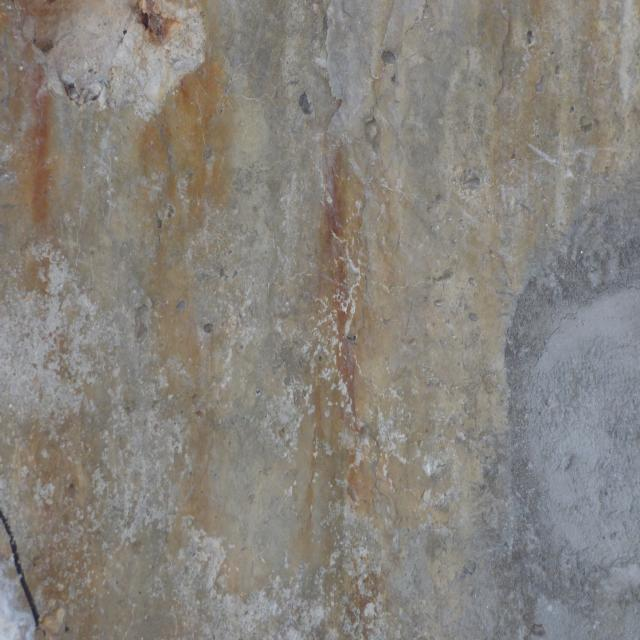corrosion: (0, 0, 111, 555), (131, 64, 244, 536), (303, 130, 396, 522), (476, 0, 640, 172), (134, 0, 174, 51)
